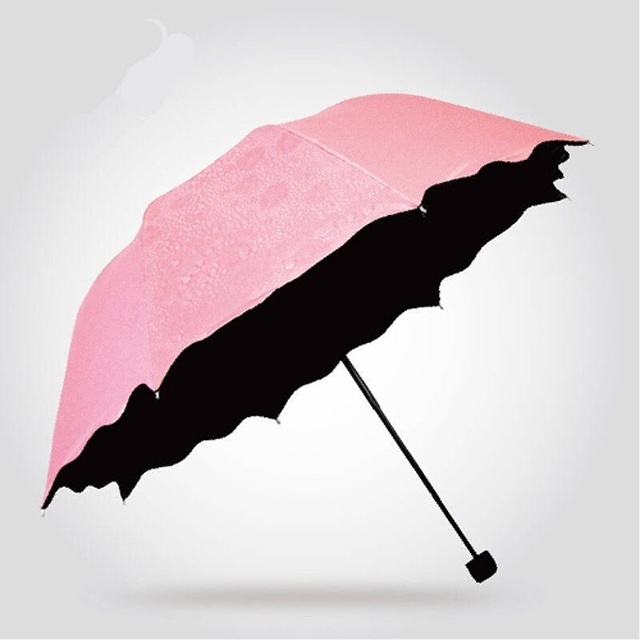umbrella: (36, 87, 601, 588)
